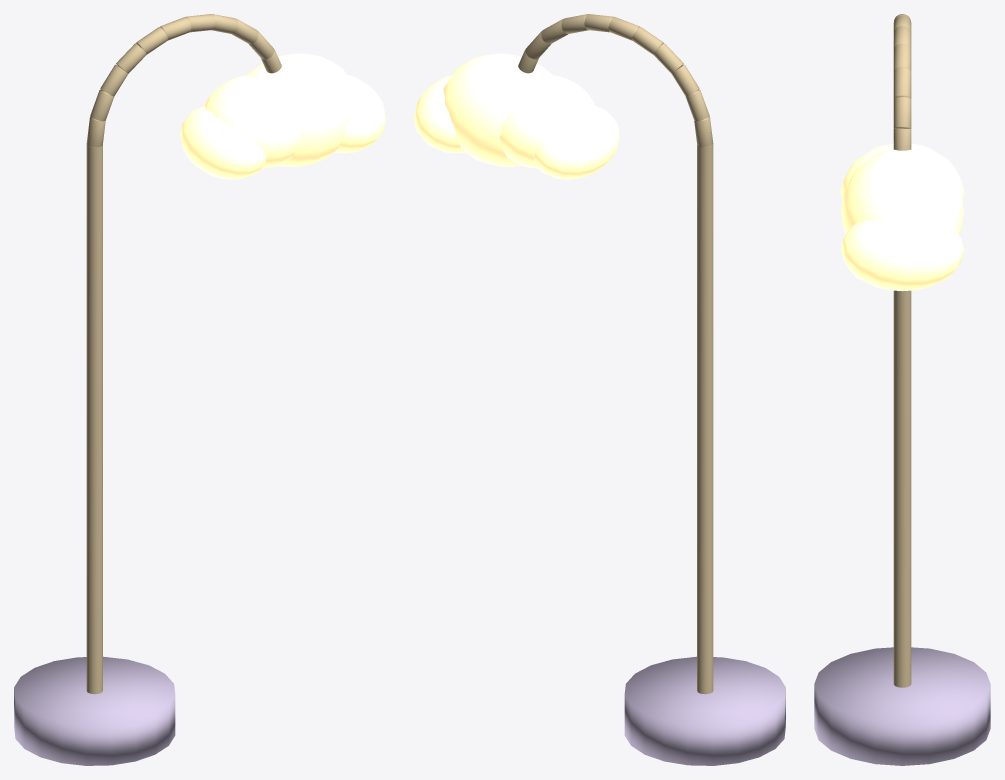
File: cloud_floor_lamp.glb
3 views of the same model, side by side, from view 1: azimuth 30°, elevation 25°; view 2: azimuth 150°, elevation 25°; view 3: azimuth 270°, elevation 25° (orthographic). The views are drawn at different scales.
Parts seen in each view (by area): view 1: lamp foot, upright, glowing cloud2, glowing cloud1, glowing cloud0, glowing cloud3; view 2: lamp foot, upright, glowing cloud2, glowing cloud1, glowing cloud0, glowing cloud3; view 3: lamp foot, upright, glowing cloud2, glowing cloud3, curved neck (×5), glowing cloud1.
Boxes of the visible parts, left/top/right/bottom form: lamp foot: left=14, top=656, right=175, bottom=765; upright: left=86, top=144, right=102, bottom=694; glowing cloud2: left=246, top=53, right=356, bottom=166; glowing cloud1: left=205, top=75, right=300, bottom=168; glowing cloud0: left=180, top=106, right=265, bottom=179; glowing cloud3: left=334, top=75, right=385, bottom=153; lamp foot: left=624, top=656, right=785, bottom=765; upright: left=697, top=144, right=713, bottom=694; glowing cloud2: left=443, top=53, right=553, bottom=166; glowing cloud1: left=499, top=75, right=594, bottom=168; glowing cloud0: left=534, top=106, right=619, bottom=179; glowing cloud3: left=414, top=75, right=465, bottom=153; lamp foot: left=814, top=647, right=990, bottom=765; upright: left=893, top=290, right=911, bottom=687; glowing cloud2: left=841, top=149, right=963, bottom=234; glowing cloud3: left=841, top=219, right=963, bottom=291; curved neck (×5): left=893, top=26, right=911, bottom=150; glowing cloud1: left=841, top=143, right=963, bottom=201.
Size of the model in its own units: 1.26 by 2.35 by 0.5.
